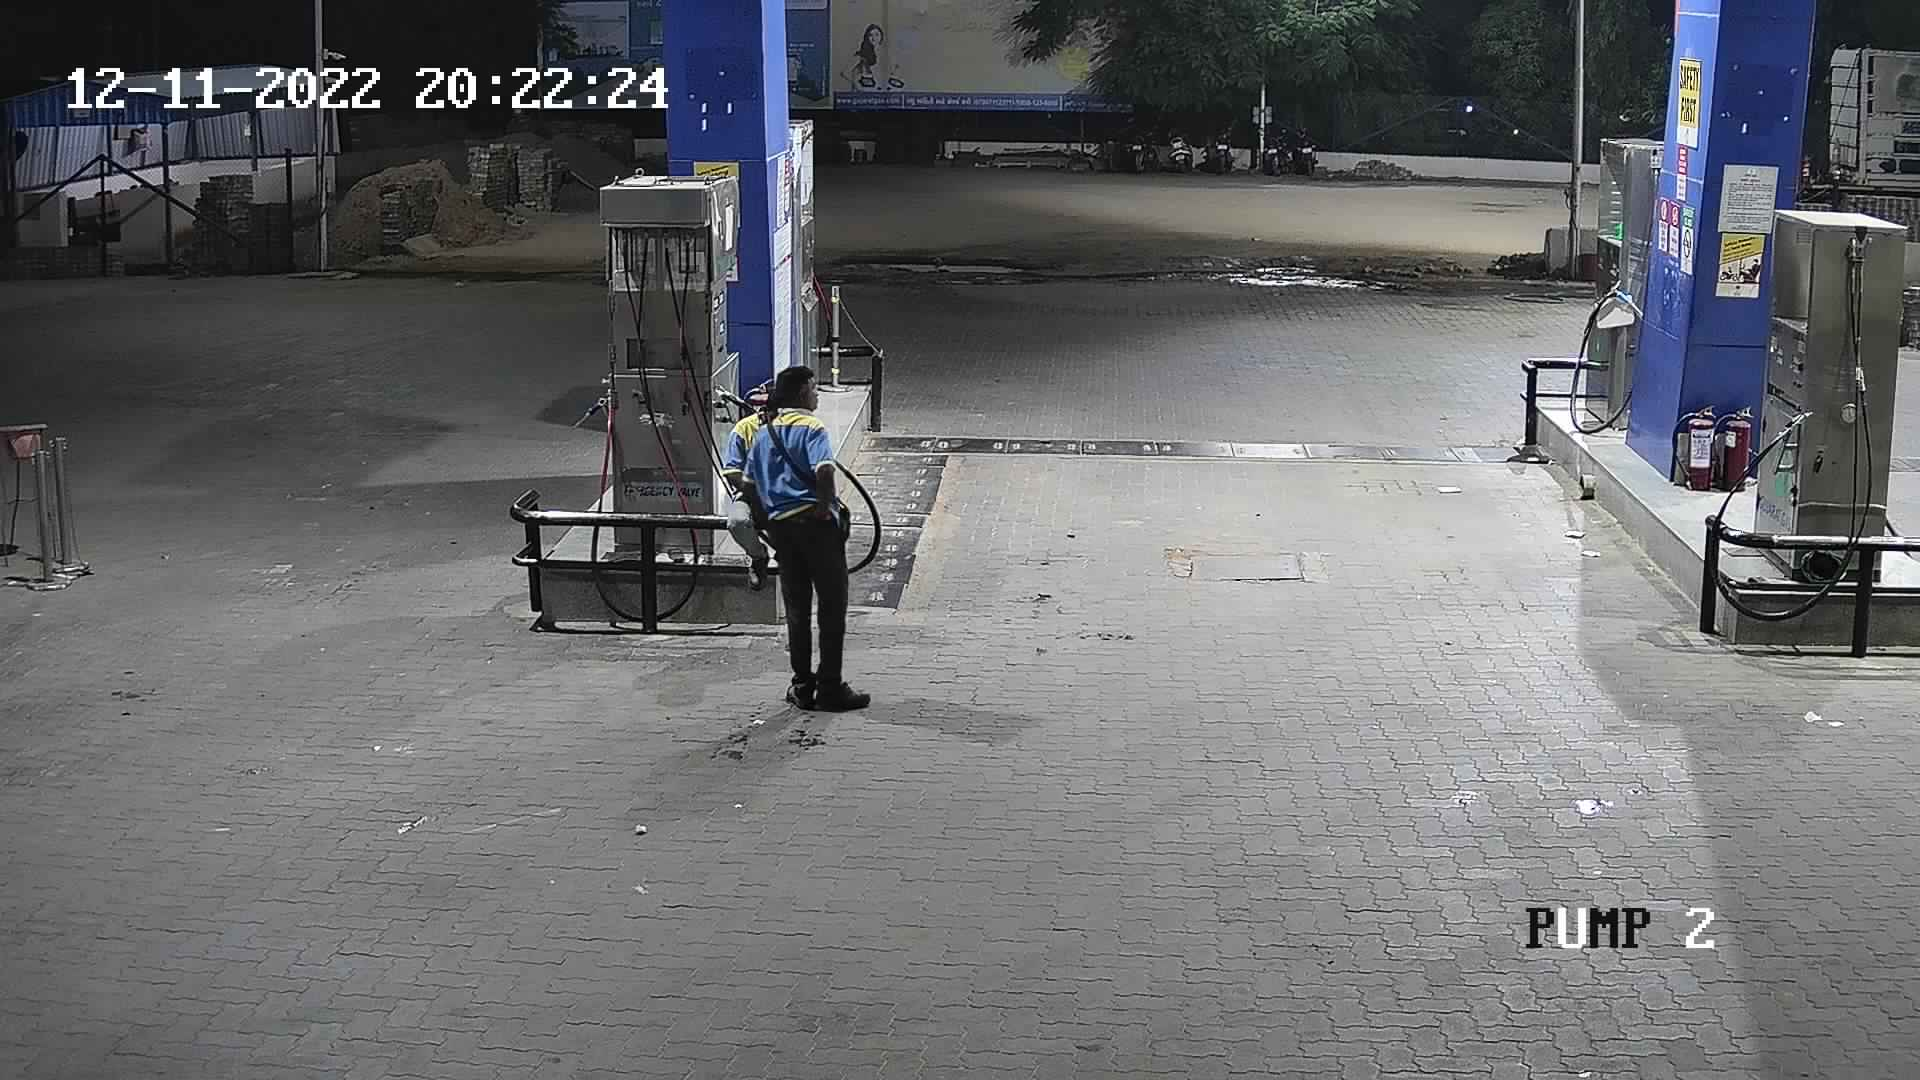Bike: (1120, 116, 1168, 181), (1283, 113, 1324, 181), (1254, 120, 1296, 185), (1162, 116, 1203, 182), (1204, 117, 1241, 179)
HMV: (1787, 34, 1915, 225)
Others: (736, 353, 880, 717), (713, 368, 800, 589)
